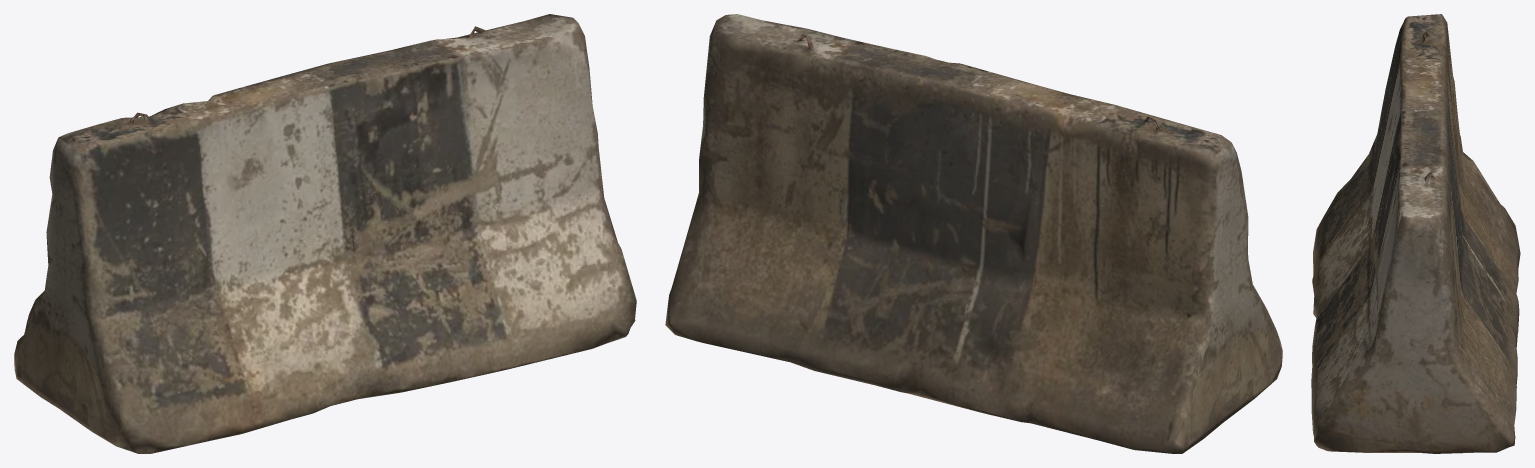
Rendered from barrera.glb.
3 views of the same model, side by side, from view 1: azimuth 30°, elevation 25°; view 2: azimuth 150°, elevation 25°; view 3: azimuth 270°, elevation 25° (orthographic). The views are drawn at different scales.
Visible parts, largest first — view 1: barrera; view 2: barrera; view 3: barrera.
Boxes of the visible parts, box(x1,y1,x2,y2) form: barrera: box(14, 14, 636, 453); barrera: box(665, 14, 1282, 453); barrera: box(1311, 14, 1520, 453).
Size of the model in its own units: 1.54 by 0.8273 by 0.6367.
1 material, 1 textured.
